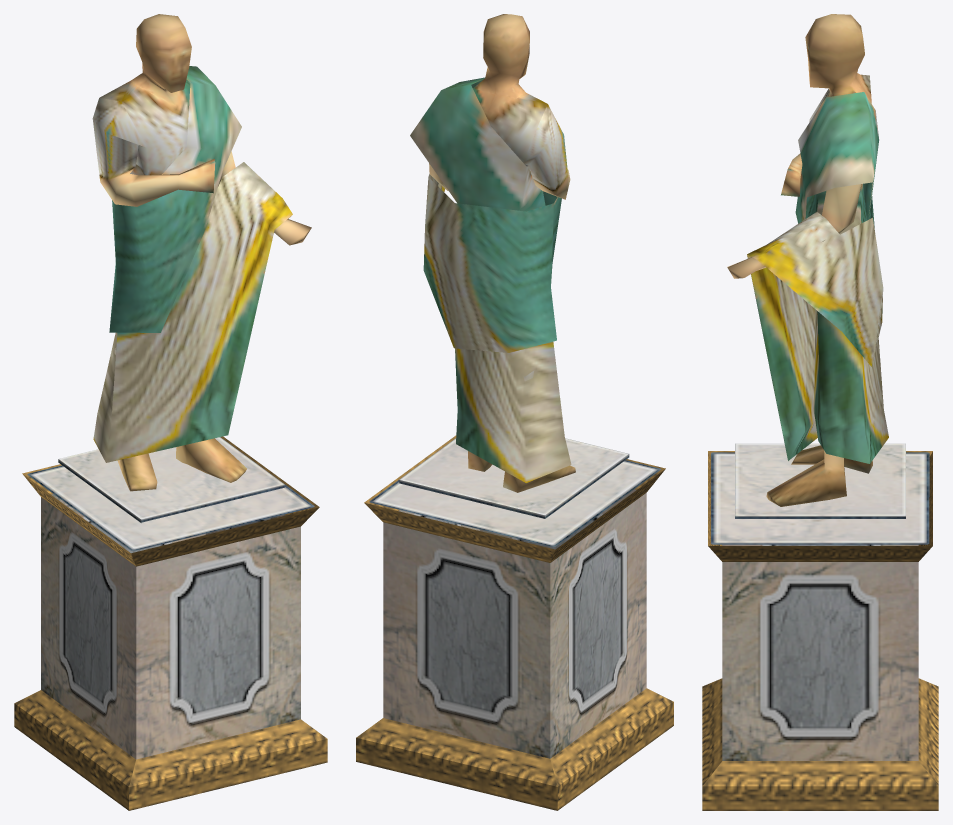
The model's file is rome_statue_4.dae.
3 views of the same model, side by side, from view 1: azimuth 30°, elevation 25°; view 2: azimuth 150°, elevation 25°; view 3: azimuth 270°, elevation 25° (orthographic). The views are drawn at different scales.
Visible parts, largest first — view 1: rome_statue_4; view 2: rome_statue_4; view 3: rome_statue_4.
Boxes of the visible parts, <box> form: rome_statue_4: <box>14,14,327,810</box>; rome_statue_4: <box>356,14,673,810</box>; rome_statue_4: <box>702,14,938,810</box>.
Size of the model in its own units: 2.76 by 2.7 by 9.39.
